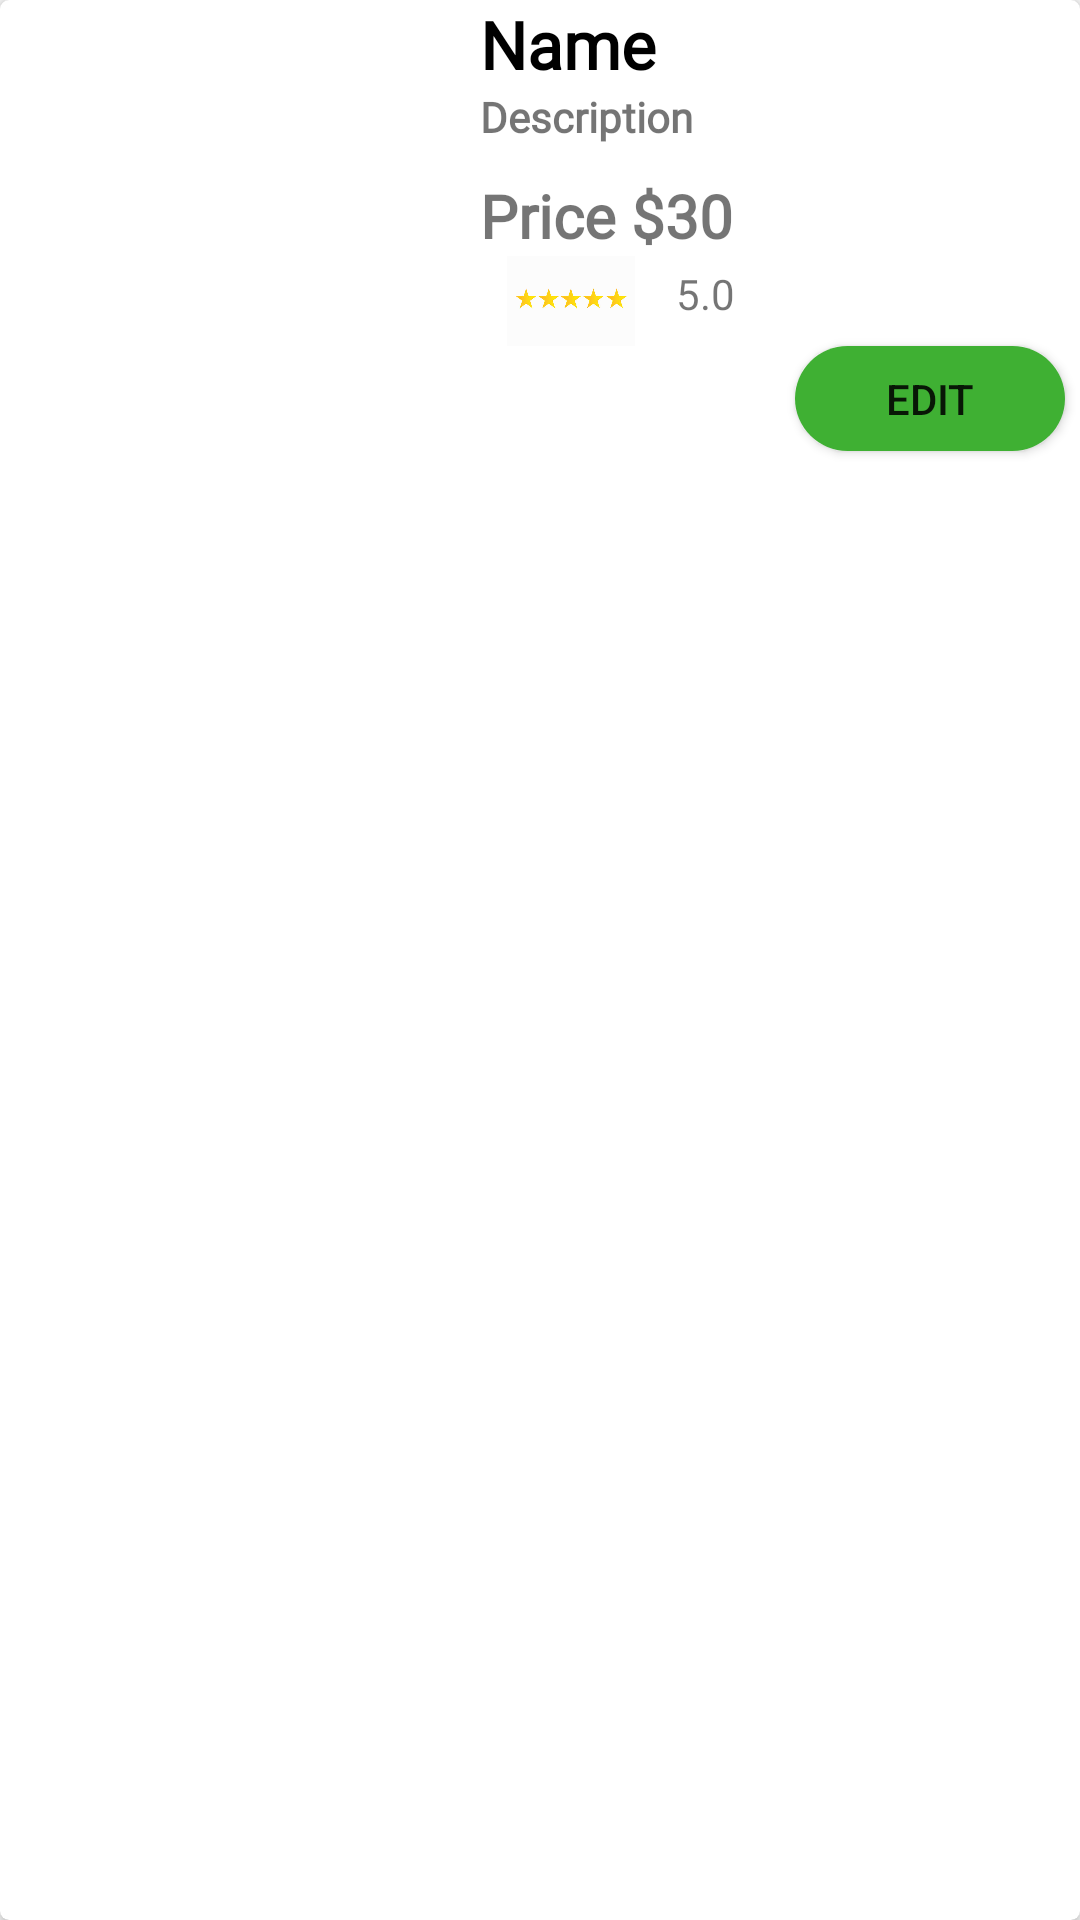

Icon bounding boxes for this 1080x1920 phone screenshot, format Rect(x1, y1, x2, y2):
ratingbar: Rect(516, 288, 627, 309)
